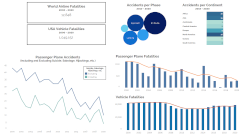

Layout of this report page (visuals, bound fields, positions):
{"tool":"tableau","page":{"name":"Airline Dashboard","canvas":[1000,1000],"units":"permille","ordinal":0},"visuals":[{"type":"blank","box":[5.2,9.6,99.7,151]},{"type":"worksheet","title":"World Airline Fatalities","mark":"Automatic","box":[104.9,9.6,320.6,164.2]},{"type":"worksheet","title":"Accidents per Phase","mark":"Circle","box":[425.5,9.6,298.5,323.6]},{"type":"worksheet","title":"Accidents per Continent","mark":"Square","rows":["Continent"],"box":[723.9,9.6,171.8,323.6]},{"type":"blank","box":[895.7,9.6,99,323.6]},{"type":"blank","box":[5.2,160.6,99.7,172.6]},{"type":"worksheet","title":"USA Vehicle Fatalities","mark":"Automatic","box":[104.9,173.8,320.6,159.4]},{"type":"blank","box":[5.2,333.2,989.5,50.5]},{"type":"worksheet","title":"Passenger Plane Accidents","mark":"Automatic","rows":["Passenger Plane Accidents including","Passenger Plane accidents excluding"],"cols":["Year"],"box":[5.2,383.7,452.7,606.8]},{"type":"worksheet","title":"Passenger Plane Fatalities","mark":"Automatic","rows":["Passenger plane Fatalities including","Passenger plane Fatalities including"],"cols":["Year"],"box":[458,383.7,536.8,297.4]},{"type":"legend","title":"Passenger Plane Accidents","param":"[federated.1wwn5fv0fxqlnn15cjv1v013ta37].[:Measure Names]","box":[332.5,478.4,93.8,106.7]},{"type":"worksheet","title":"Vehicle Fatalities","mark":"Automatic","rows":["Fatalities"],"cols":["Year"],"box":[458,681,536.8,309.4]}]}

Visuals, with their boxes on the dashboard's canvas, which has no fixed pixel size, in thousandths of its width and height (x1, y1, x2, y2). These are canvas units, not pixel positions in the 250x137 screenshot, which may show the page scaled, cropped or inside an application window:
blank: pyautogui.locateOnScreen(5, 10, 105, 161)
"World Airline Fatalities" worksheet: pyautogui.locateOnScreen(105, 10, 426, 174)
"Accidents per Phase" worksheet (Circle marks): pyautogui.locateOnScreen(426, 10, 724, 333)
"Accidents per Continent" worksheet (Square marks): pyautogui.locateOnScreen(724, 10, 896, 333)
blank: pyautogui.locateOnScreen(896, 10, 995, 333)
blank: pyautogui.locateOnScreen(5, 161, 105, 333)
"USA Vehicle Fatalities" worksheet: pyautogui.locateOnScreen(105, 174, 426, 333)
blank: pyautogui.locateOnScreen(5, 333, 995, 384)
"Passenger Plane Accidents" worksheet: pyautogui.locateOnScreen(5, 384, 458, 990)
"Passenger Plane Fatalities" worksheet: pyautogui.locateOnScreen(458, 384, 995, 681)
"Passenger Plane Accidents" legend: pyautogui.locateOnScreen(332, 478, 426, 585)
"Vehicle Fatalities" worksheet: pyautogui.locateOnScreen(458, 681, 995, 990)
